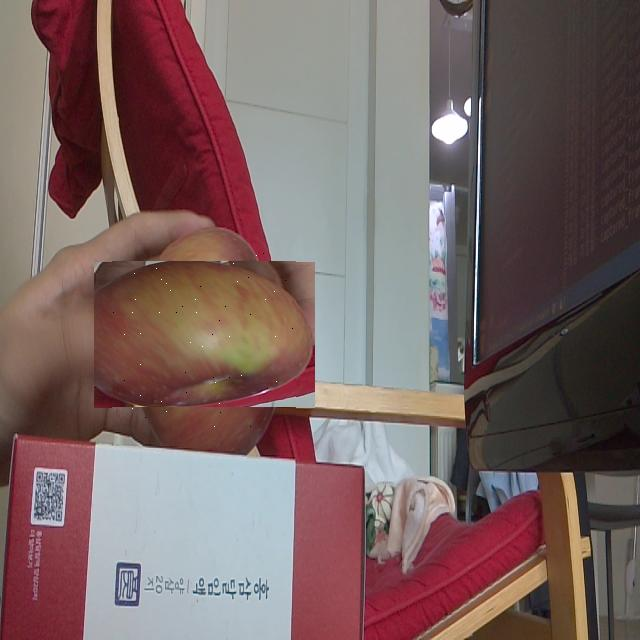apple: (112, 243, 296, 428)
